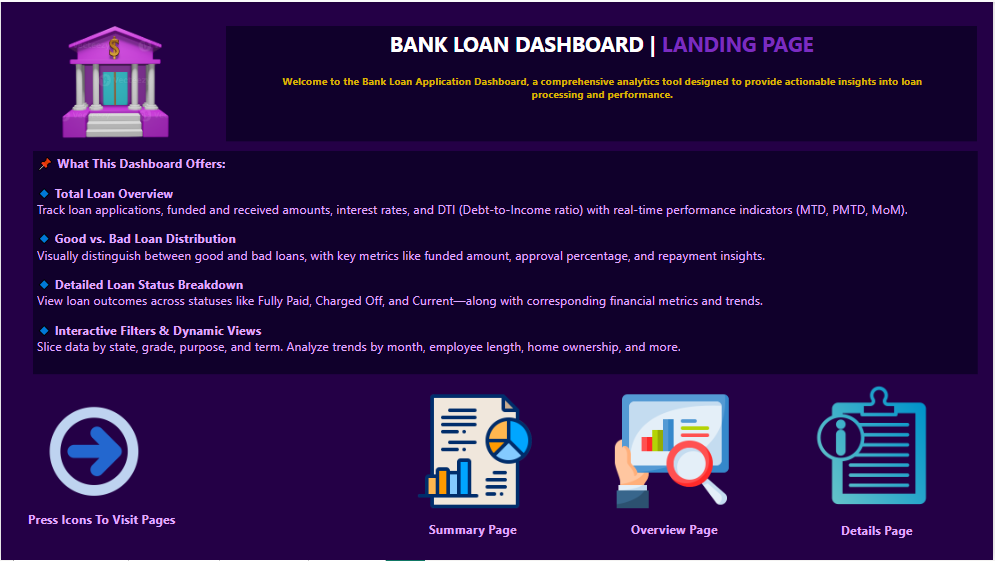

What the dashboard file says about the page in this screenshot:
{"tool":"powerbi","page":{"name":"Landing  Page","canvas":[1280,720],"ordinal":0},"visuals":[{"type":"image","box":[29.8,9.9,240.9,182.8],"z":0},{"type":"shape","box":[290.6,31.2,969.4,148.8],"z":1000},{"type":"textbox","box":[326,87.9,898.6,69.4],"z":2000},{"type":"textbox","box":[290.6,31.2,969.4,56.7],"z":3000},{"type":"textbox","box":[41.1,192.8,1218.9,287.7],"z":4000},{"type":"image","box":[787.3,494.6,157.3,171.5],"z":5000},{"type":"image","box":[1041.7,480.5,164.4,184.3],"z":6000},{"type":"image","box":[532.9,494.6,157.3,171.5],"z":7000},{"type":"textbox","box":[547.1,664.7,143.1,43.9],"z":8000},{"type":"image","box":[41.1,494.6,157,171],"z":9000},{"type":"textbox","box":[29.8,652,229.6,43.9],"z":10000},{"type":"textbox","box":[807.9,664.7,137.5,43.9],"z":11000},{"type":"textbox","box":[1078.6,666.1,127.6,43.9],"z":12000}]}

Visuals, with their boxes in screenshot pixels (x1, y1, x2, y2), scaled from the page's 1280x720 canvas onto the 995x561 screenshot:
image: l=23, t=8, r=210, b=150
shape: l=226, t=24, r=979, b=140
textbox: l=253, t=68, r=952, b=123
textbox: l=226, t=24, r=979, b=68
textbox: l=32, t=150, r=979, b=374
image: l=612, t=385, r=734, b=519
image: l=810, t=374, r=938, b=518
image: l=414, t=385, r=537, b=519
textbox: l=425, t=518, r=537, b=552
image: l=32, t=385, r=154, b=519
textbox: l=23, t=508, r=202, b=542
textbox: l=628, t=518, r=735, b=552
textbox: l=838, t=519, r=938, b=553
